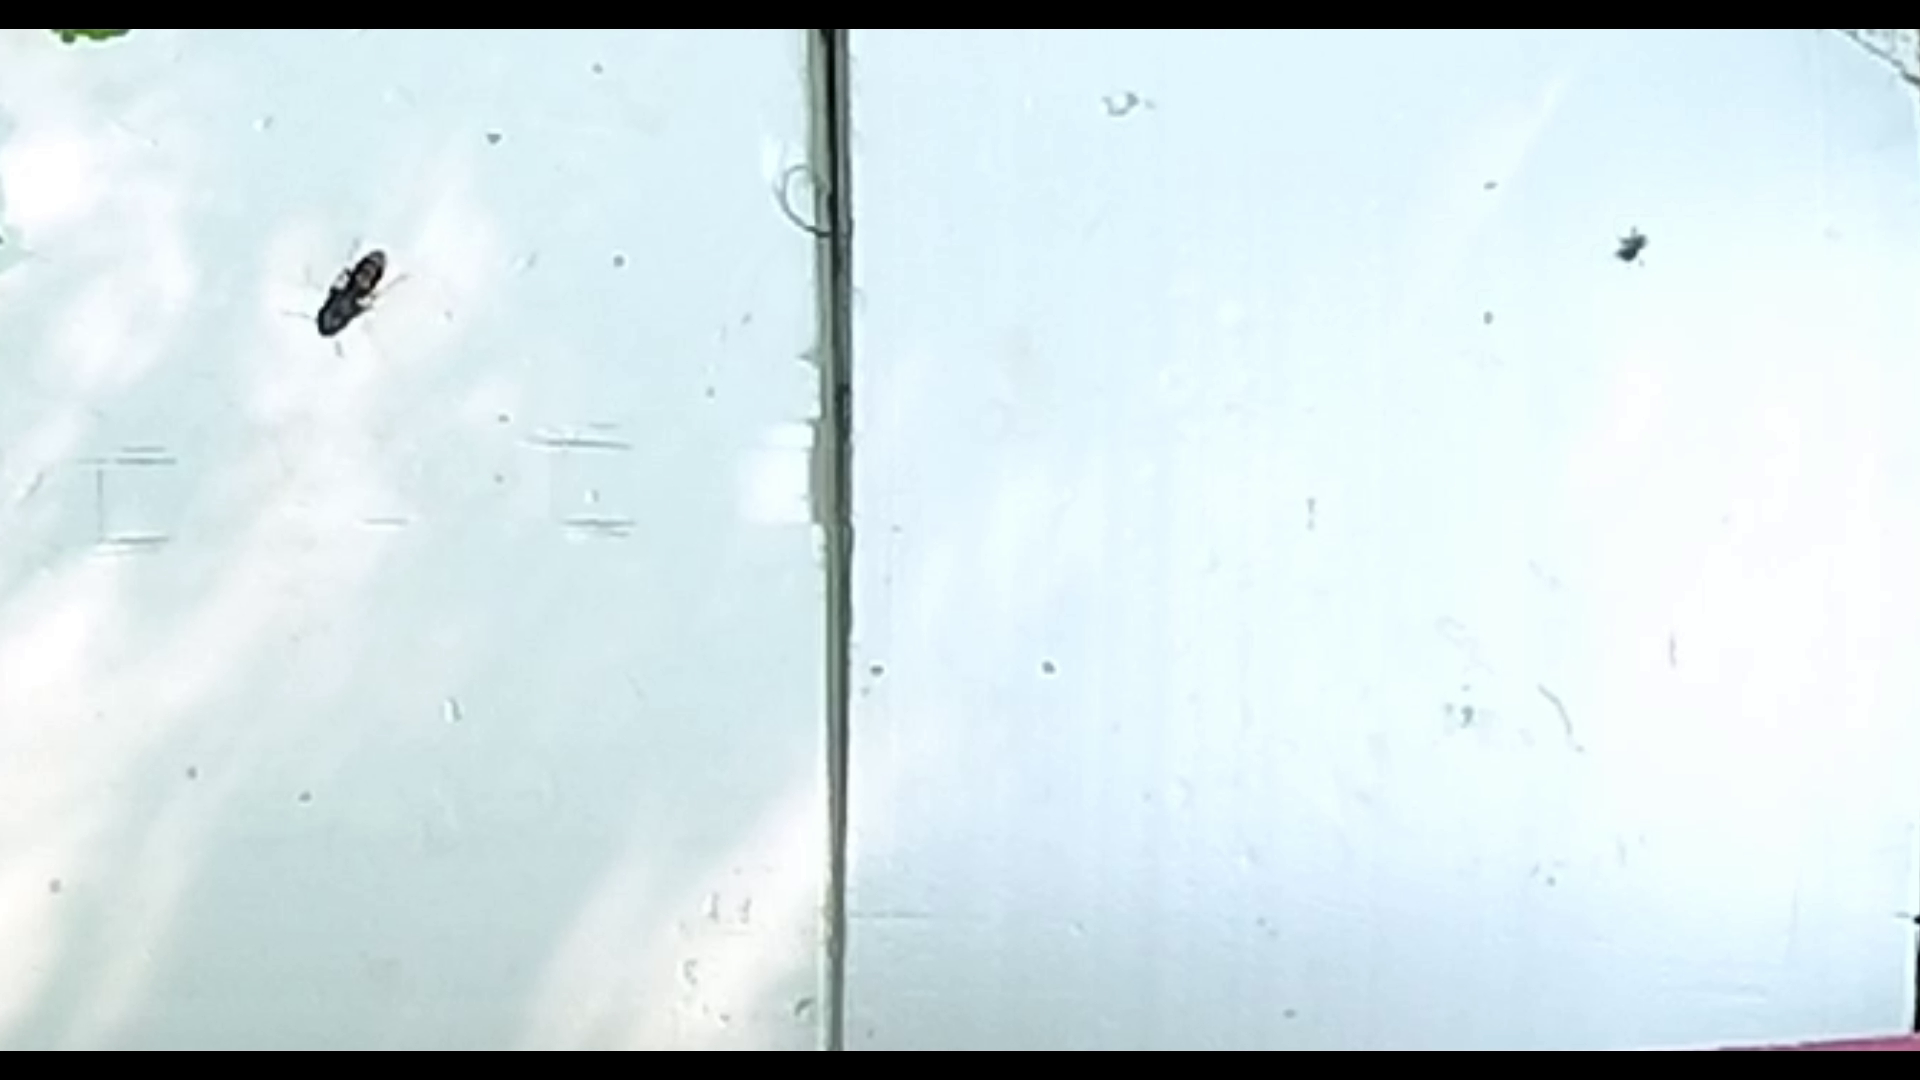Asian_hornets: (268, 211, 422, 371)
